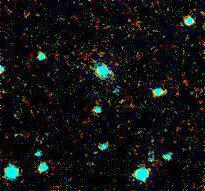star: (104, 86, 134, 116)
